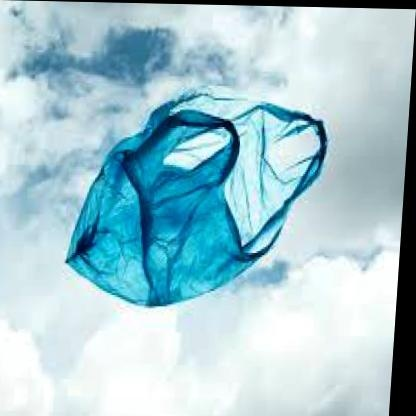trash: (66, 93, 326, 305)
